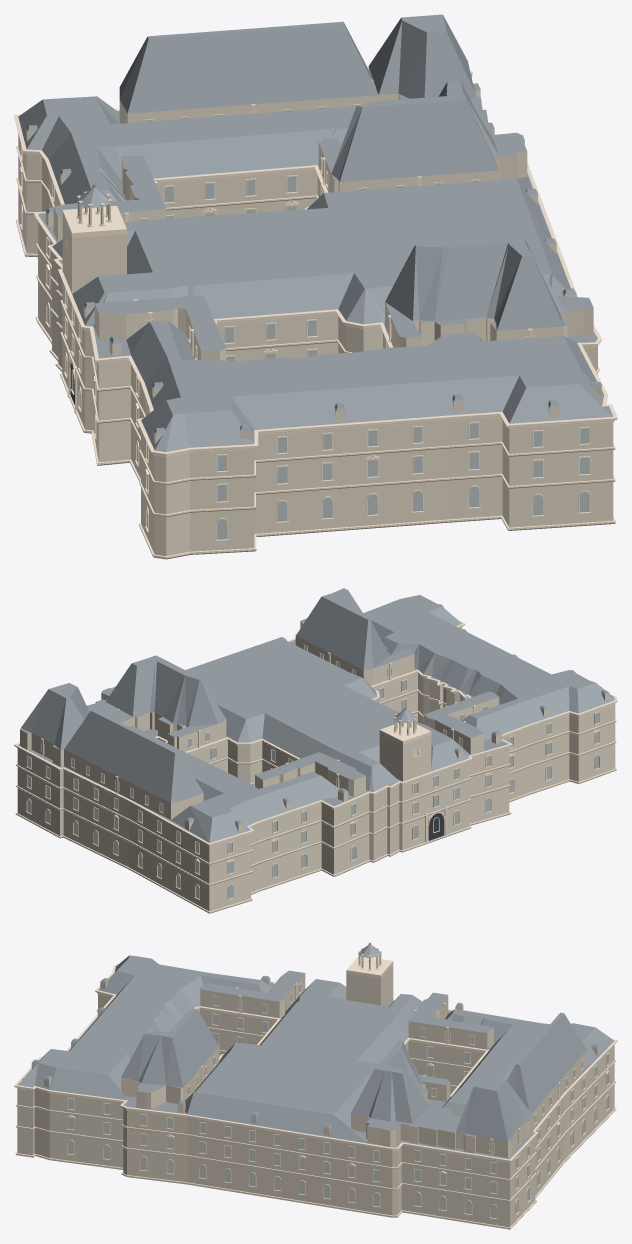
Rendered from detail.glb.
The picture shows the model from 3 angles, top to bottom: view 1: azimuth 30°, elevation 25°; view 2: azimuth 150°, elevation 25°; view 3: azimuth 270°, elevation 25°; orthographic projection. The views are drawn at different scales.
Parts seen in each view (by area): view 1: roof, stone, trim, window; view 2: roof, stone, trim, window; view 3: roof, stone, trim, window.
Part boxes in pixels (left/top/right/bottom): roof: left=18, top=14, right=613, bottom=452; stone: left=18, top=67, right=613, bottom=555; trim: left=14, top=71, right=617, bottom=559; window: left=21, top=105, right=589, bottom=539; roof: left=18, top=588, right=614, bottom=842; stone: left=17, top=607, right=615, bottom=911; trim: left=14, top=619, right=617, bottom=913; window: left=27, top=646, right=599, bottom=898; roof: left=17, top=945, right=614, bottom=1159; stone: left=17, top=948, right=614, bottom=1227; trim: left=14, top=956, right=617, bottom=1229; window: left=68, top=984, right=608, bottom=1218.
Size of the model in its own units: 128 by 40 by 165.
